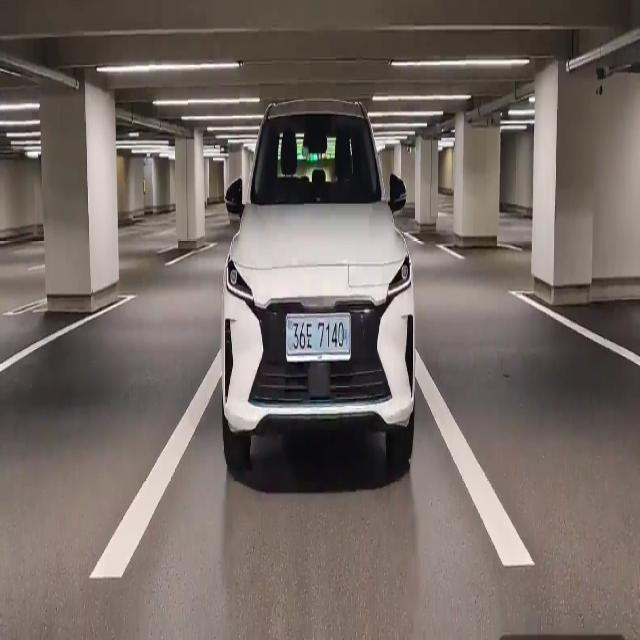car: (285, 316, 354, 361)
carev: (343, 321, 353, 359), (286, 318, 294, 359)
